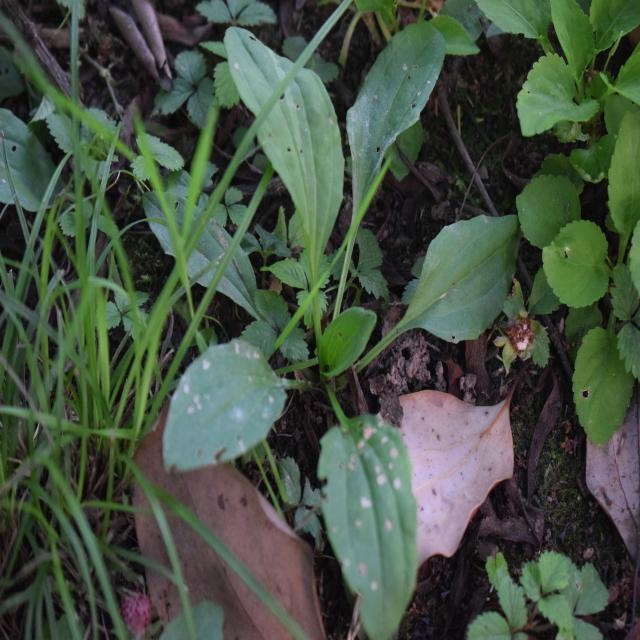plantain: (192, 52, 491, 568)
